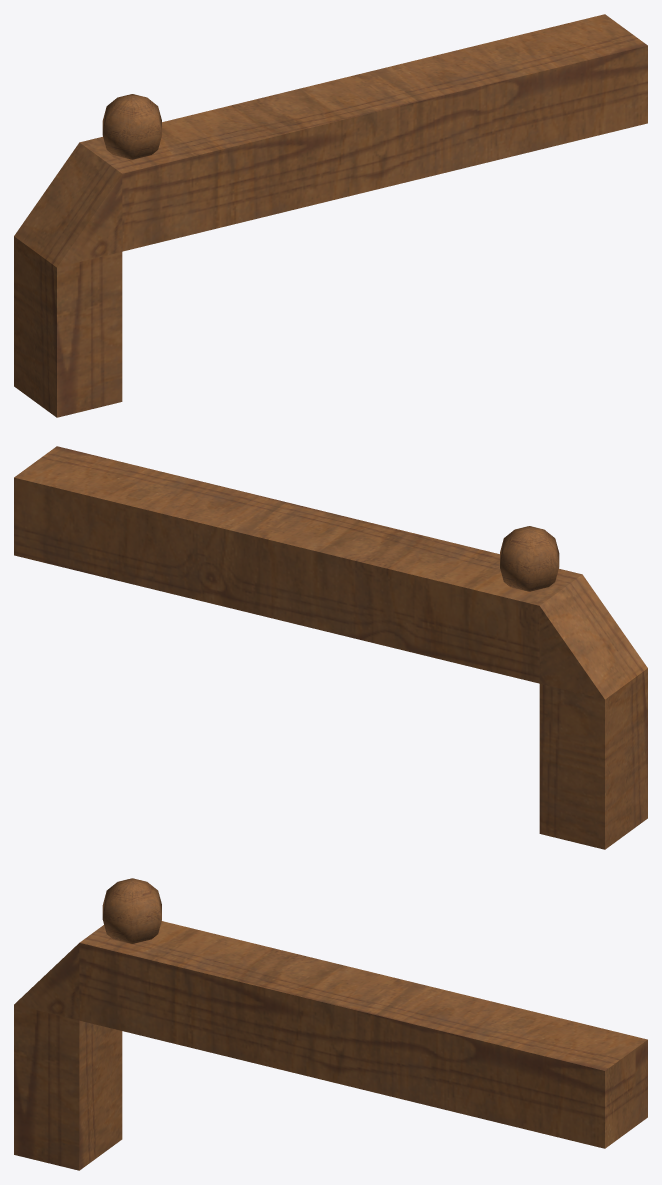
The model's file is WoodBeam03_Art.fbx.
3 renders of one model, top to bottom at view 1: azimuth 30°, elevation 25°; view 2: azimuth 150°, elevation 25°; view 3: azimuth 330°, elevation 25°, orthographic.
Visible parts, largest first — view 1: WoodBeam03_Art; view 2: WoodBeam03_Art; view 3: WoodBeam03_Art.
Boxes of the visible parts, box(x1,y1,x2,y2) form: WoodBeam03_Art: box(14, 14, 647, 417); WoodBeam03_Art: box(14, 446, 647, 849); WoodBeam03_Art: box(14, 878, 647, 1170).
Bounding box in the file's own units: 3.06 × 1.39 × 0.3855.
